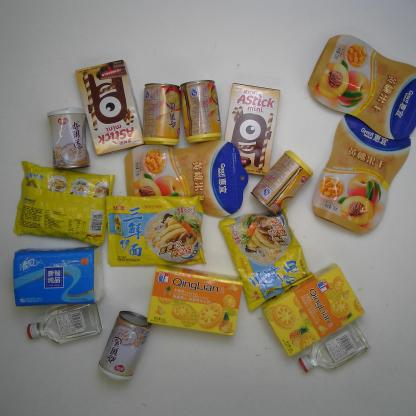Alcohol: (297, 320, 371, 374), (26, 298, 104, 346)
Canned Food: (249, 148, 314, 218), (98, 309, 154, 383), (178, 77, 224, 146), (47, 106, 91, 172), (139, 82, 184, 146)
Dessert: (259, 262, 366, 358), (145, 263, 247, 337), (73, 57, 148, 156), (221, 82, 280, 178)
Dried Fruit: (310, 107, 413, 235), (306, 33, 416, 141), (121, 140, 251, 219)
Instant Noodles: (218, 204, 315, 314), (13, 160, 116, 249), (103, 192, 209, 270)
Tissue: (12, 244, 106, 309)
